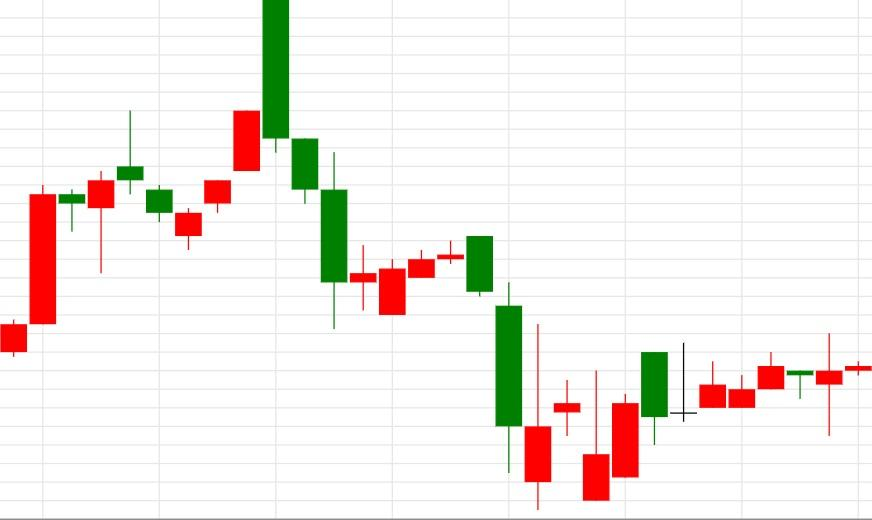bearish_engulfing_fall: (378, 235, 494, 316)
three_black_crows_fall: (175, 0, 349, 329)
three_white_soldiers_rise: (116, 109, 261, 251)
